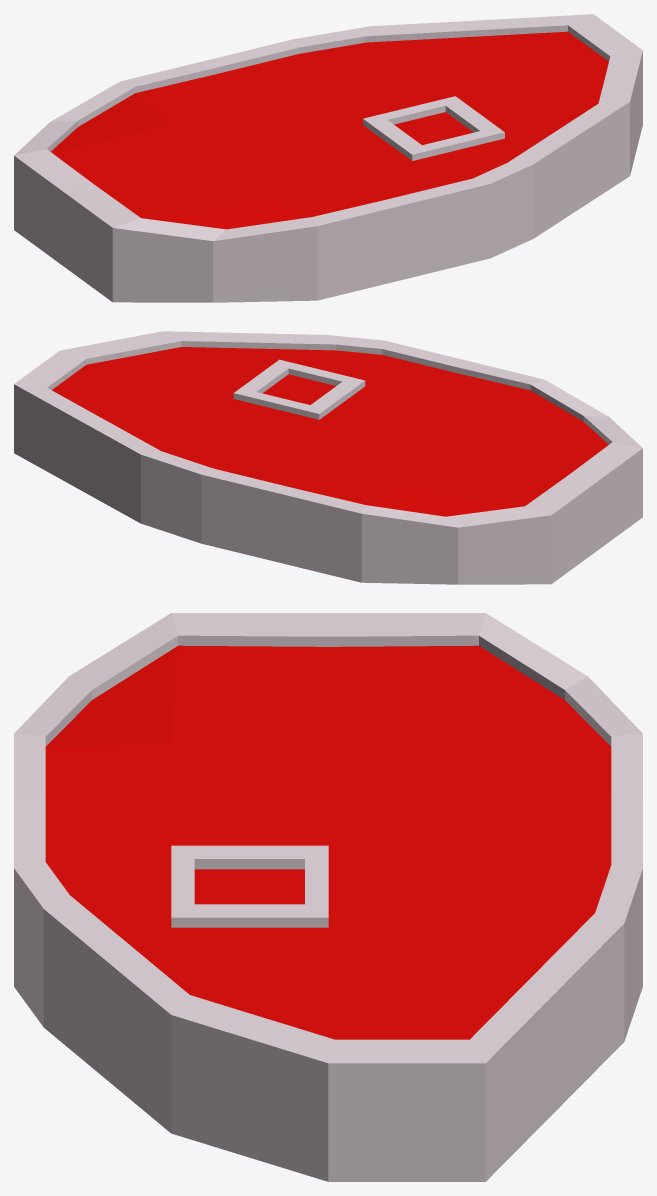
Rendered from Steak.fbx.
The picture shows the model from 3 angles, top to bottom: view 1: azimuth 30°, elevation 25°; view 2: azimuth 150°, elevation 25°; view 3: azimuth 270°, elevation 25°; orthographic projection. The views are drawn at different scales.
Visible parts, largest first — view 1: Meat; view 2: Meat; view 3: Meat.
Boxes of the visible parts, x1,y1,x2,y2 form: Meat: [14, 14, 642, 302]; Meat: [14, 331, 642, 584]; Meat: [14, 613, 642, 1181].
Size of the model in its own units: 191 by 23.91 by 113.
